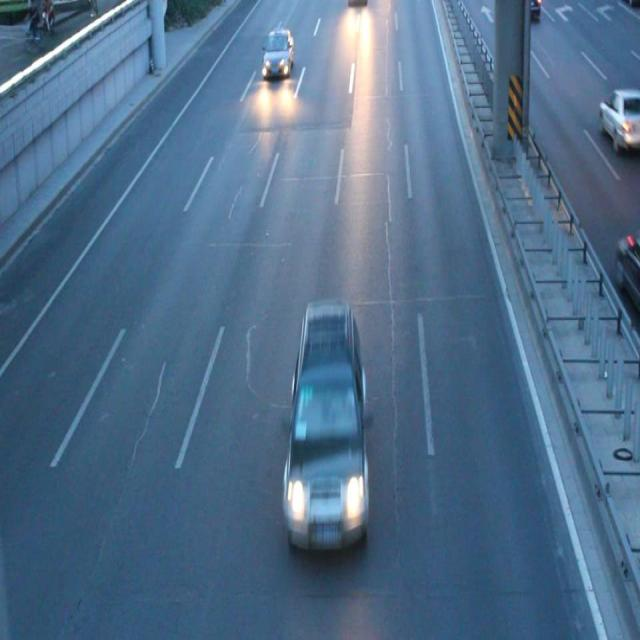car: (260, 28, 293, 79)
truck: (282, 301, 370, 556)
